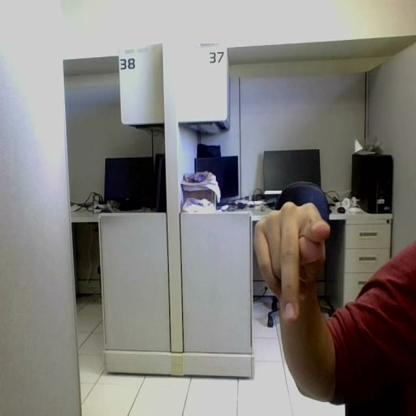P: (254, 202, 330, 324)
